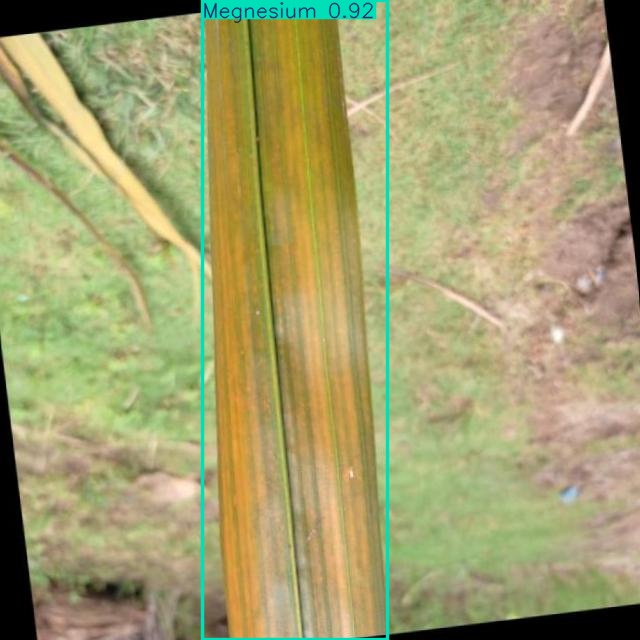Megnesium: (202, 0, 388, 640)
